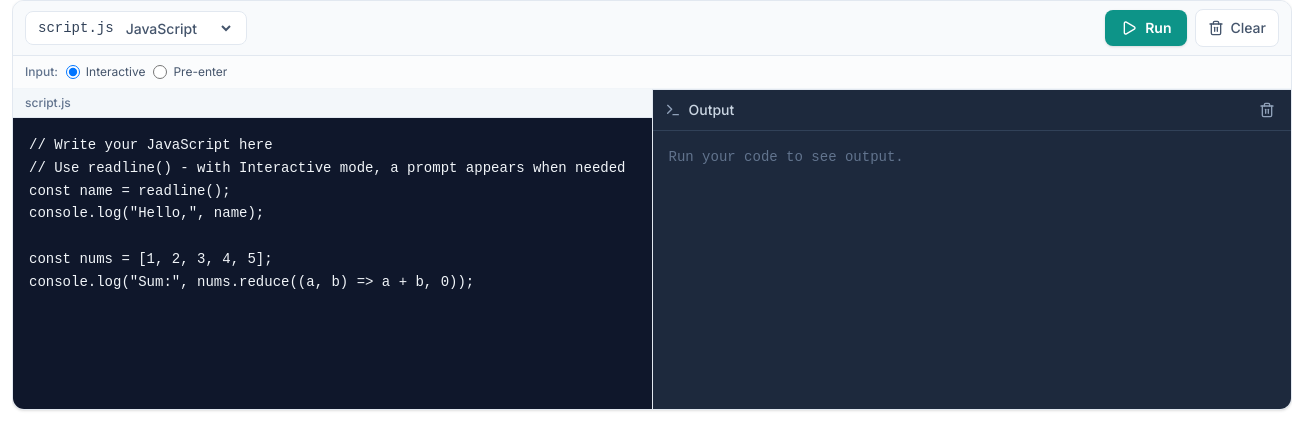
Scenario: CodeBlock › input mode controls (console + javascript/python) › switches to Pre-enter mode when clicking Pre-enter radio
Click the radio button labelled "Pre-enter". click: (160, 72)
box: [153,65,167,79]
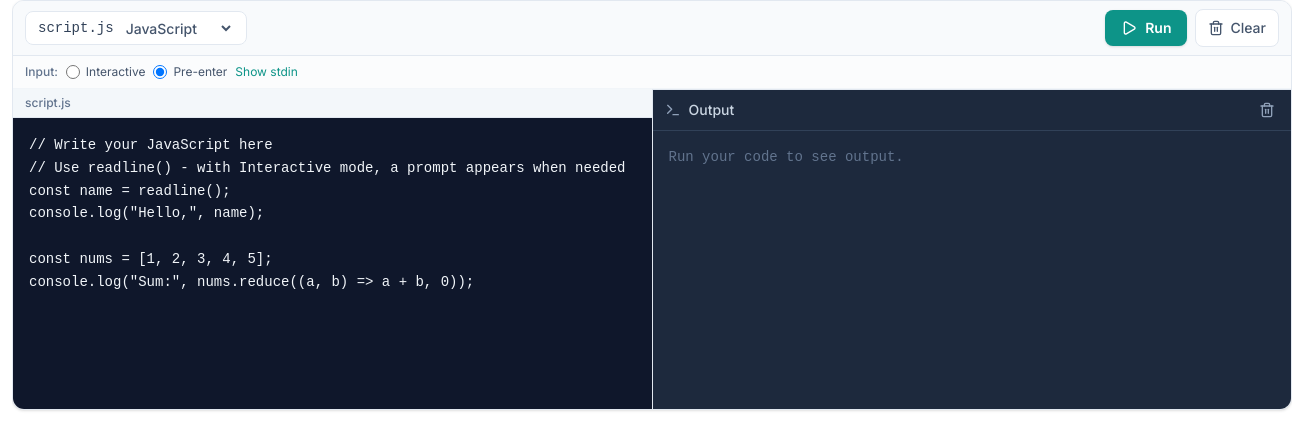
Result: the radio button labelled "Pre-enter" is checked at [153,65,167,79]
Result: the text "Show stdin" is shown at [235,64,298,80]
